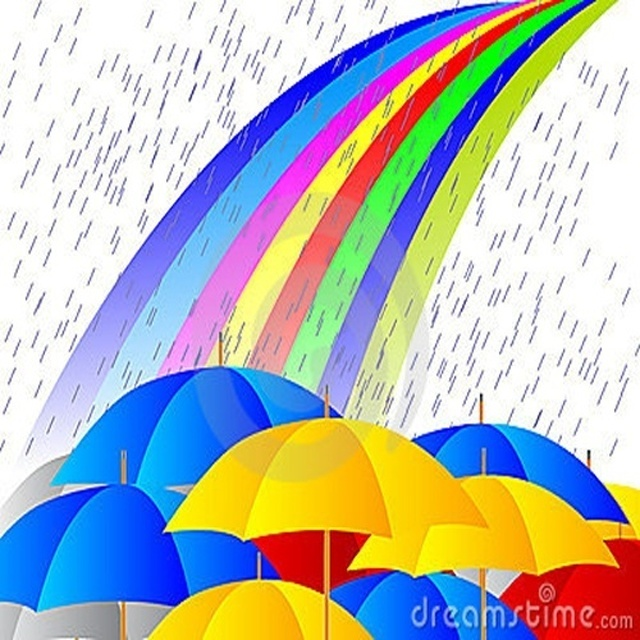umbrella: (163, 415, 491, 640), (345, 470, 622, 640), (1, 475, 283, 640), (50, 358, 345, 489), (410, 394, 635, 527), (140, 568, 376, 640), (494, 532, 640, 640)
